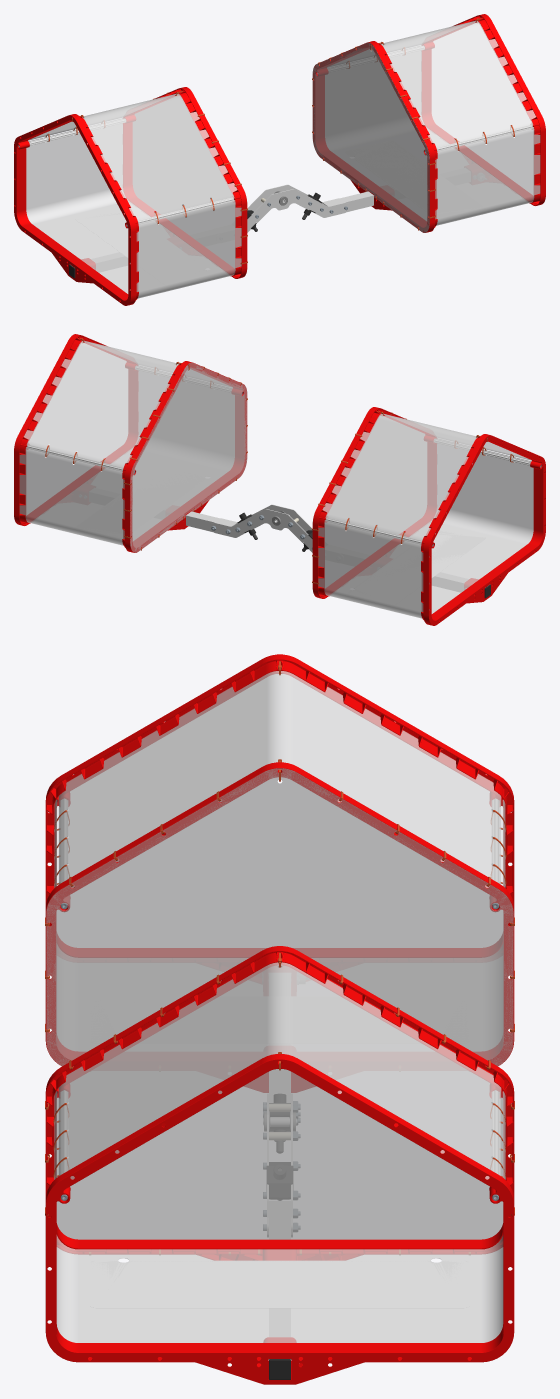
3 views of the same model, one above another, from view 1: azimuth 30°, elevation 25°; view 2: azimuth 150°, elevation 25°; view 3: azimuth 270°, elevation 25° (orthographic). The views are drawn at different scales.
Parts seen in each view (by area): view 1: am-5888: Hive Goal Bottom Skin (×2), am-5869: Hive Goal Top Skin (×2), am-5871: Hive Goal Back Skin (×2), am-5866-red: Red Goal Rib (×4), am-5873: Goal Pivot Bracket (×2), am-5888-red2: Red Goal April Tag (Scoring), am-5867: 10.5in Churro Lite (×3), am-5868: Basket Base Tube (×2); view 2: am-5888: Hive Goal Bottom Skin (×2), am-5869: Hive Goal Top Skin (×2), am-5871: Hive Goal Back Skin (×2), am-5866-red: Red Goal Rib (×4), am-5873: Goal Pivot Bracket (×2), am-5888-red2: Red Goal April Tag (Scoring), am-5867: 10.5in Churro Lite (×3), am-5868: Basket Base Tube (×2); view 3: am-5871: Hive Goal Back Skin (×2), am-5869: Hive Goal Top Skin (×2), am-5866-red: Red Goal Rib (×4), am-5888: Hive Goal Bottom Skin (×2), am-5888-red1: Red Goal April Tag (Audience), am-5868: Basket Base Tube, am-5864: Pivot Damper Holder.
Part boxes in pixels (x1=…): am-5888: Hive Goal Bottom Skin (×2): x1=26, y1=47, x2=540, y2=298; am-5869: Hive Goal Top Skin (×2): x1=28, y1=20, x2=536, y2=221; am-5871: Hive Goal Back Skin (×2): x1=133, y1=42, x2=429, y2=269; am-5866-red: Red Goal Rib (×4): x1=14, y1=14, x2=545, y2=305; am-5873: Goal Pivot Bracket (×2): x1=247, y1=184, x2=349, y2=232; am-5888-red2: Red Goal April Tag (Scoring): x1=74, y1=206, x2=128, y2=257; am-5867: 10.5in Churro Lite (×3): x1=29, y1=119, x2=532, y2=223; am-5868: Basket Base Tube (×2): x1=91, y1=191, x2=373, y2=272; am-5888: Hive Goal Bottom Skin (×2): x1=19, y1=367, x2=533, y2=618; am-5869: Hive Goal Top Skin (×2): x1=23, y1=340, x2=531, y2=541; am-5871: Hive Goal Back Skin (×2): x1=130, y1=362, x2=426, y2=589; am-5866-red: Red Goal Rib (×4): x1=14, y1=334, x2=545, y2=625; am-5873: Goal Pivot Bracket (×2): x1=210, y1=504, x2=312, y2=552; am-5888-red2: Red Goal April Tag (Scoring): x1=431, y1=526, x2=485, y2=577; am-5867: 10.5in Churro Lite (×3): x1=27, y1=439, x2=530, y2=543; am-5868: Basket Base Tube (×2): x1=186, y1=511, x2=468, y2=592; am-5871: Hive Goal Back Skin (×2): x1=46, y1=768, x2=513, y2=1239; am-5869: Hive Goal Top Skin (×2): x1=58, y1=671, x2=501, y2=1179; am-5866-red: Red Goal Rib (×4): x1=45, y1=654, x2=514, y2=1384; am-5888: Hive Goal Bottom Skin (×2): x1=54, y1=799, x2=505, y2=1342; am-5888-red1: Red Goal April Tag (Audience): x1=90, y1=1260, x2=469, y2=1307; am-5868: Basket Base Tube: x1=269, y1=1201, x2=290, y2=1359; am-5864: Pivot Damper Holder: x1=267, y1=1162, x2=292, y2=1199.
Size of the model in its own units: 1.1 by 0.4084 by 0.5349.
